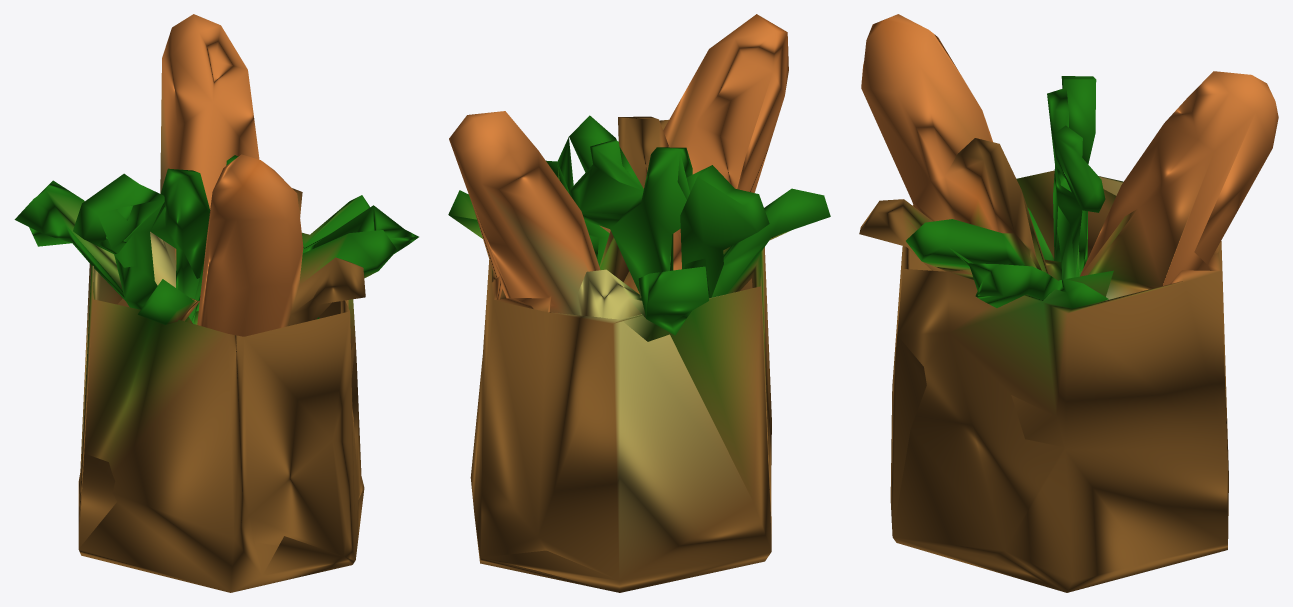
File: gen3d-grocery-bag-lod1.glb
The picture shows the model from 3 angles, left to right: view 1: azimuth 30°, elevation 25°; view 2: azimuth 150°, elevation 25°; view 3: azimuth 270°, elevation 25°; orthographic projection. The views are drawn at different scales.
Parts seen in each view (by area): view 1: part_0; view 2: part_0; view 3: part_0.
Part boxes in pixels (bbox=[...]): part_0: bbox=[14, 14, 418, 592]; part_0: bbox=[448, 14, 830, 592]; part_0: bbox=[859, 14, 1278, 592].
Bounding box in the file's own units: 0.7121 × 0.9898 × 0.7874.
